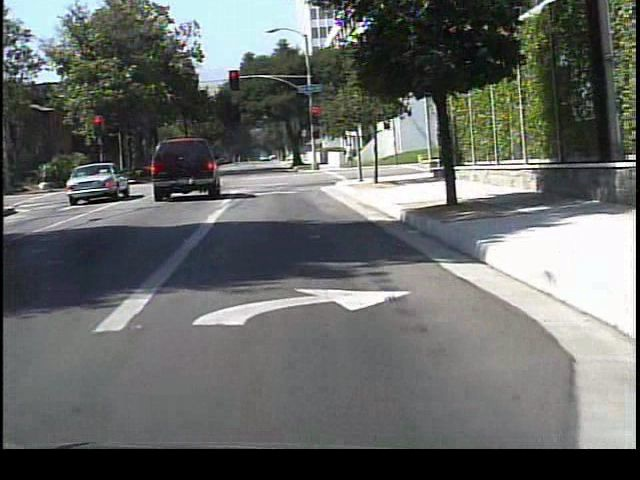person: (341, 143, 358, 173)
